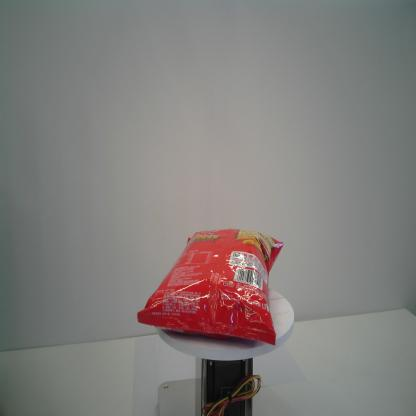Puffed Food: (137, 227, 284, 348)
